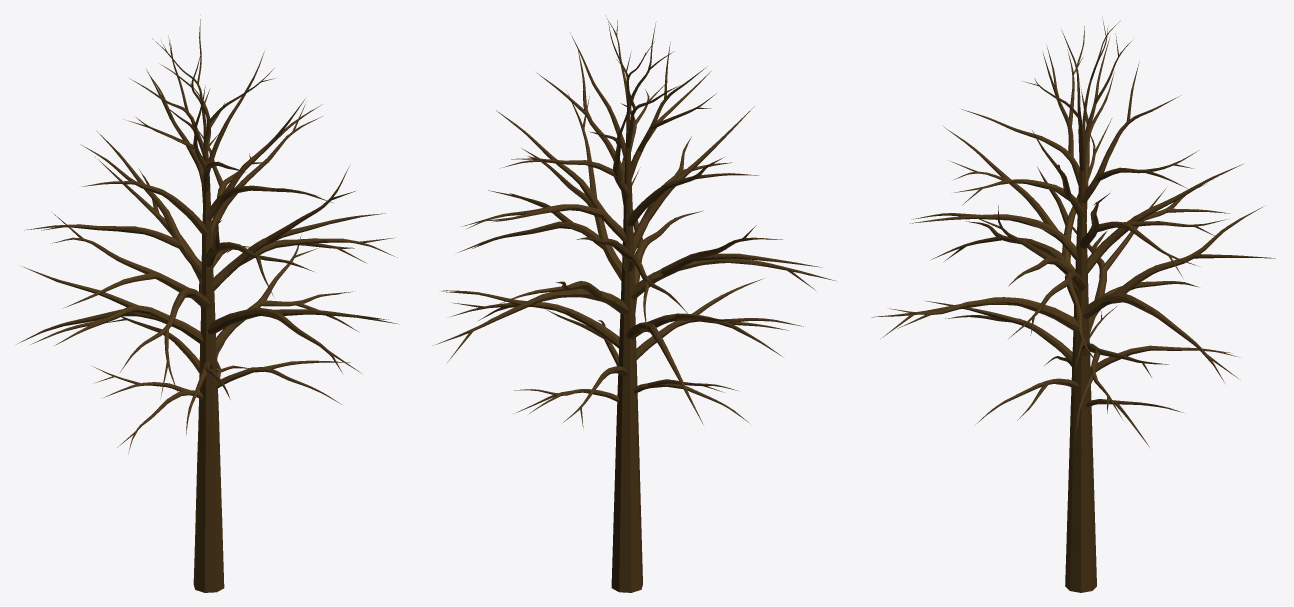
The model's file is drySimpleTreeL.fbx.
3 views of the same model, side by side, from view 1: azimuth 30°, elevation 25°; view 2: azimuth 150°, elevation 25°; view 3: azimuth 270°, elevation 25° (orthographic). The views are drawn at different scales.
Parts seen in each view (by area): view 1: drySimpleTreeL, drySimpleTreeL2, drySimpleTreeL1; view 2: drySimpleTreeL, drySimpleTreeL2, drySimpleTreeL1; view 3: drySimpleTreeL, drySimpleTreeL2, drySimpleTreeL1.
Part boxes in pixels (box(x1,y1,x2,y2)): drySimpleTreeL: box(16, 19, 399, 592); drySimpleTreeL2: box(25, 23, 389, 592); drySimpleTreeL1: box(30, 20, 389, 579); drySimpleTreeL: box(433, 15, 836, 592); drySimpleTreeL2: box(449, 22, 815, 584); drySimpleTreeL1: box(443, 21, 827, 592); drySimpleTreeL: box(871, 17, 1275, 592); drySimpleTreeL2: box(881, 29, 1267, 566); drySimpleTreeL1: box(880, 21, 1256, 571).
Bounding box in the file's own units: 351 × 566 × 373.
